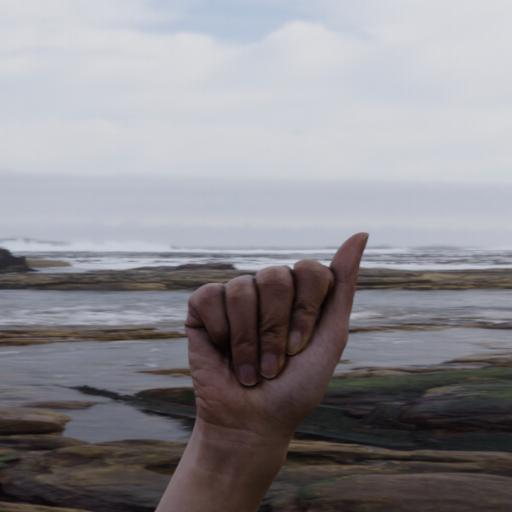Q: (138, 219, 383, 471)
